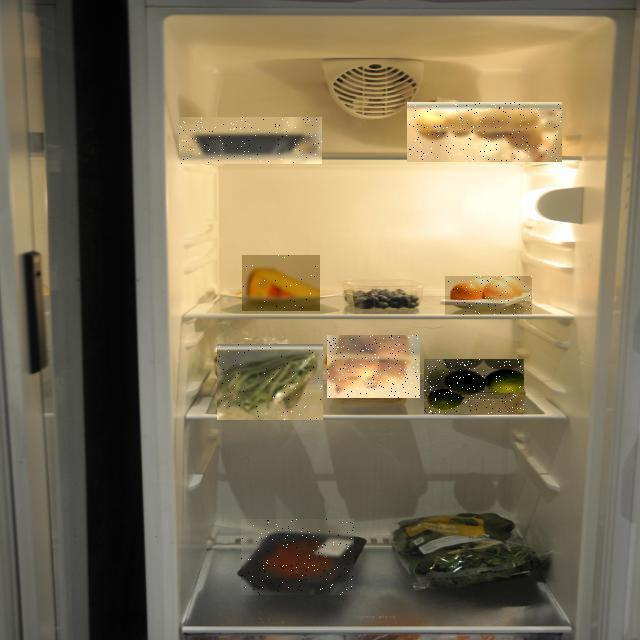cheese: (82, 156, 402, 467)
egg: (179, 158, 640, 472)
onion: (117, 199, 537, 597)
potato: (126, 81, 640, 243)
